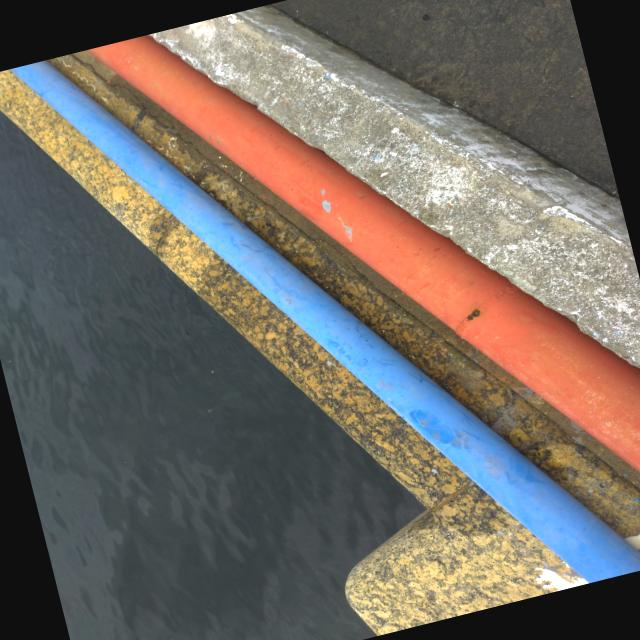gas: (7, 60, 640, 582), (88, 34, 640, 472)
